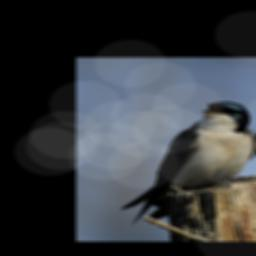Swallow: (120, 101, 256, 226)
